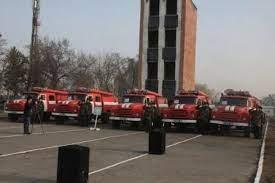Fire-engine: (216, 88, 263, 138), (6, 83, 59, 127), (62, 83, 116, 125), (119, 84, 168, 130), (170, 85, 210, 128)
